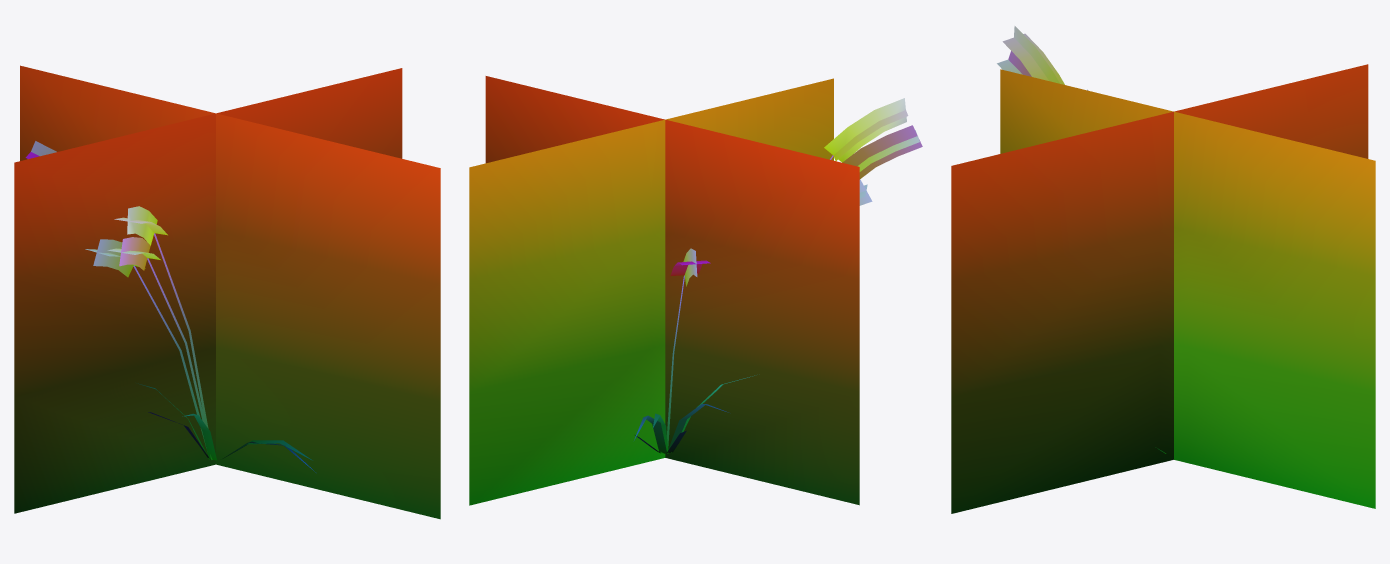
The model's file is Grass_Barnyard_B.fbx.
3 renders of one model, left to right at view 1: azimuth 30°, elevation 25°; view 2: azimuth 150°, elevation 25°; view 3: azimuth 270°, elevation 25°, orthographic. The views are drawn at different scales.
Parts seen in each view (by area): view 1: Grass_Barnyard_B_LOD0; view 2: Grass_Barnyard_B_LOD0; view 3: Grass_Barnyard_B_LOD0.
Part boxes in pixels (left/top/right/bottom): Grass_Barnyard_B_LOD0: left=14, top=65, right=440, bottom=519; Grass_Barnyard_B_LOD0: left=469, top=76, right=922, bottom=505; Grass_Barnyard_B_LOD0: left=951, top=26, right=1375, bottom=513.
Size of what is drawn, in the model's own units: 0.9674 by 0.8477 by 0.9245.
